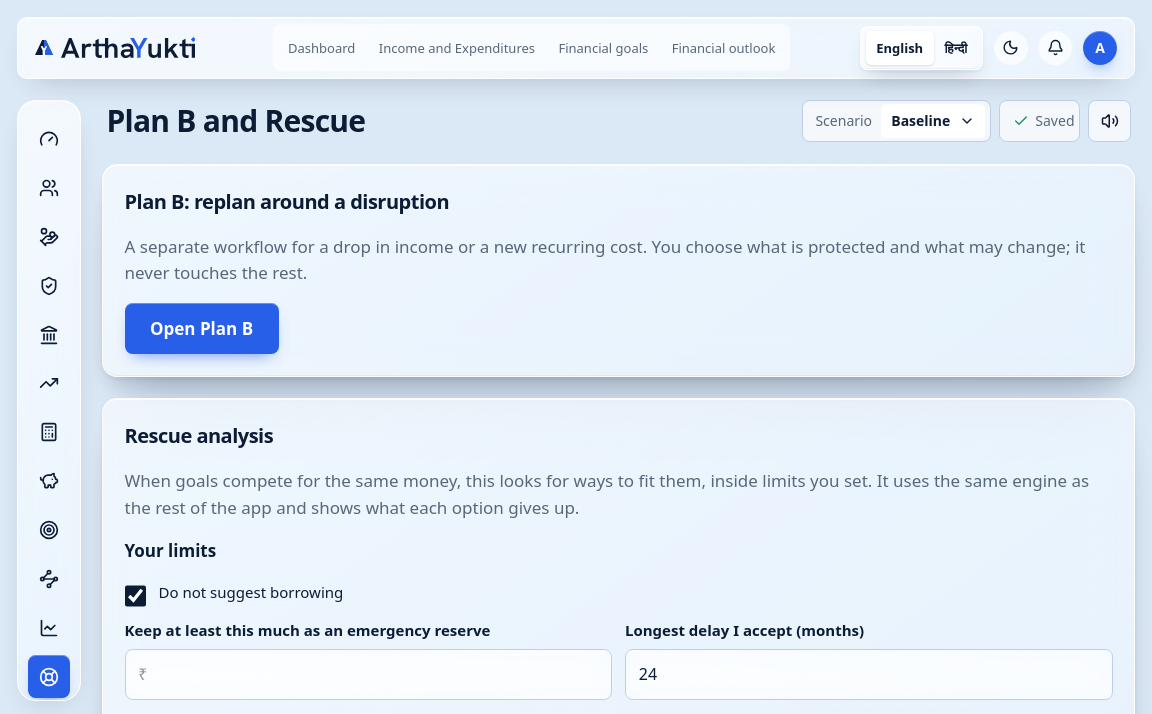
Scenario: Plan B › is reachable from the Rescue page and says it is a separate workflow
The image size is (1152, 714).
Click the button "Open Plan B".
click(202, 329)  # box [124, 303, 279, 354]
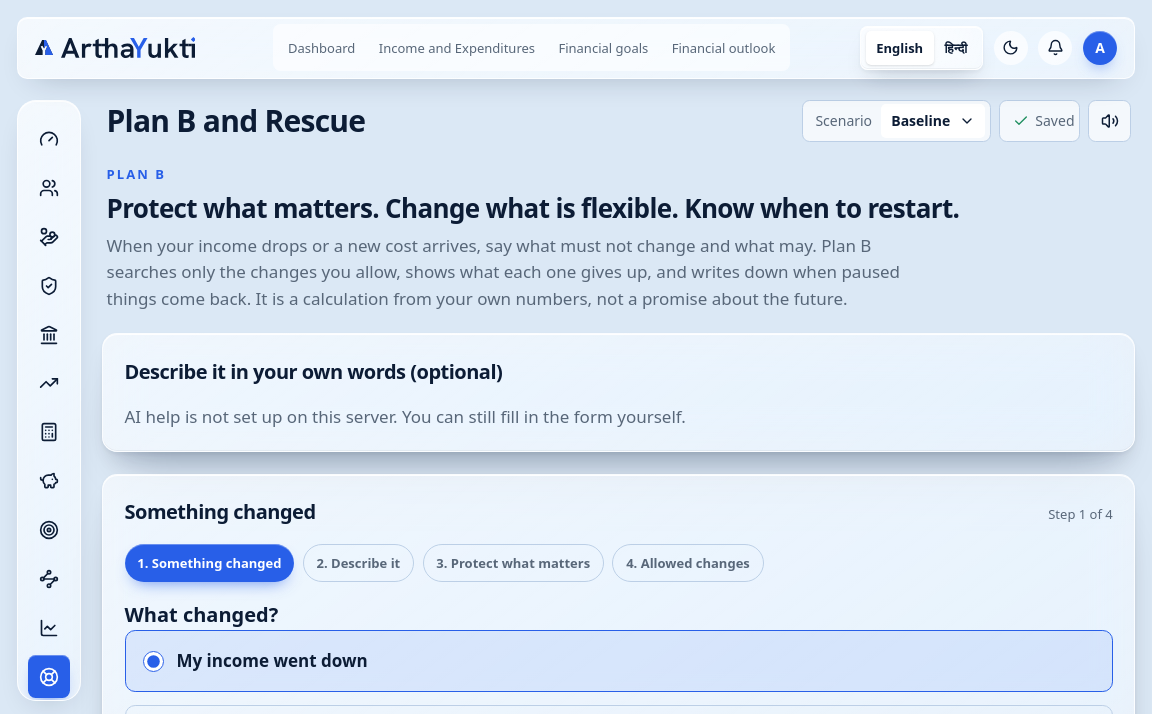
Result: the heading "Protect what matters. Change what is flexible. Know when to restart." is shown at [106, 190, 959, 226]
